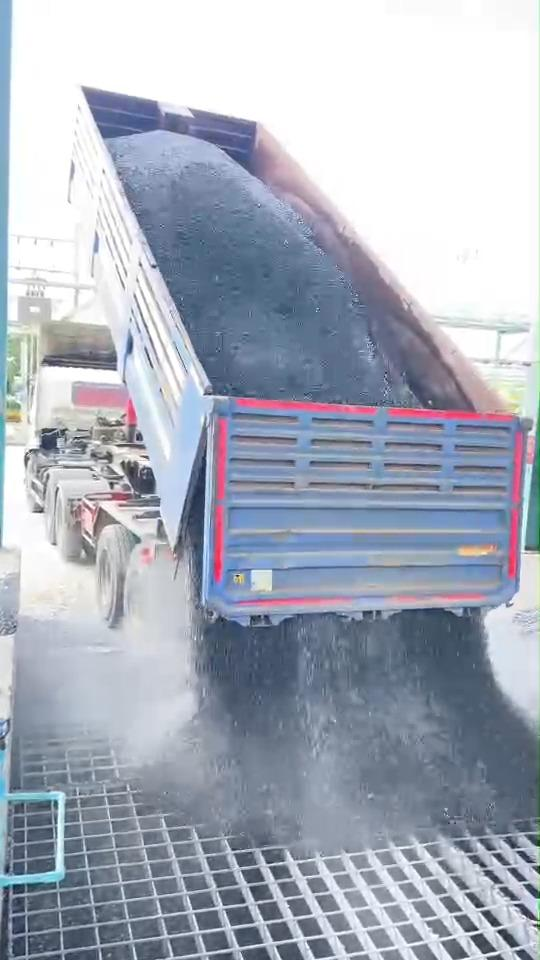gravel: (173, 513, 537, 842), (107, 131, 417, 405)
